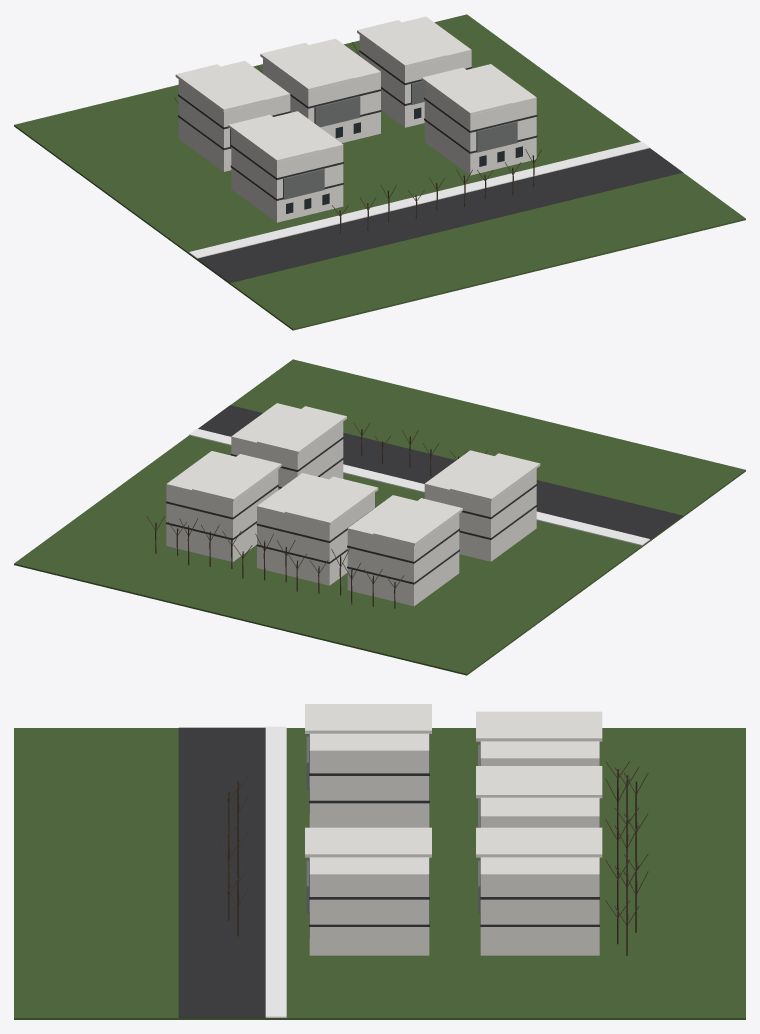
File: site.glb
3 views of the same model, one above another, from view 1: azimuth 30°, elevation 25°; view 2: azimuth 150°, elevation 25°; view 3: azimuth 270°, elevation 25° (orthographic). The views are drawn at different scales.
Visible parts, largest first — view 1: bake_site; view 2: bake_site; view 3: bake_site.
Part boxes in pixels (box(x1,y1,x2,y2)): bake_site: box(14, 14, 745, 330); bake_site: box(14, 359, 745, 675); bake_site: box(14, 704, 745, 1019).
Size of the model in its own units: 75 by 10.45 by 80.
